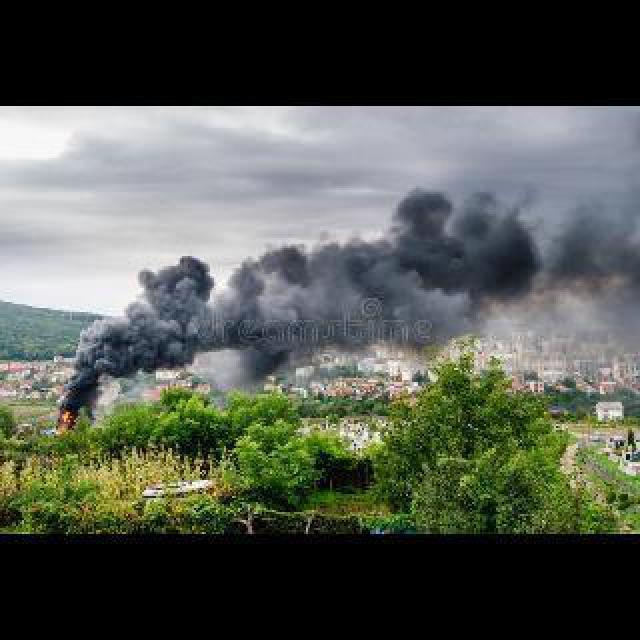smoke: (120, 174, 638, 372), (62, 324, 124, 408)
zfire: (46, 400, 82, 436)
